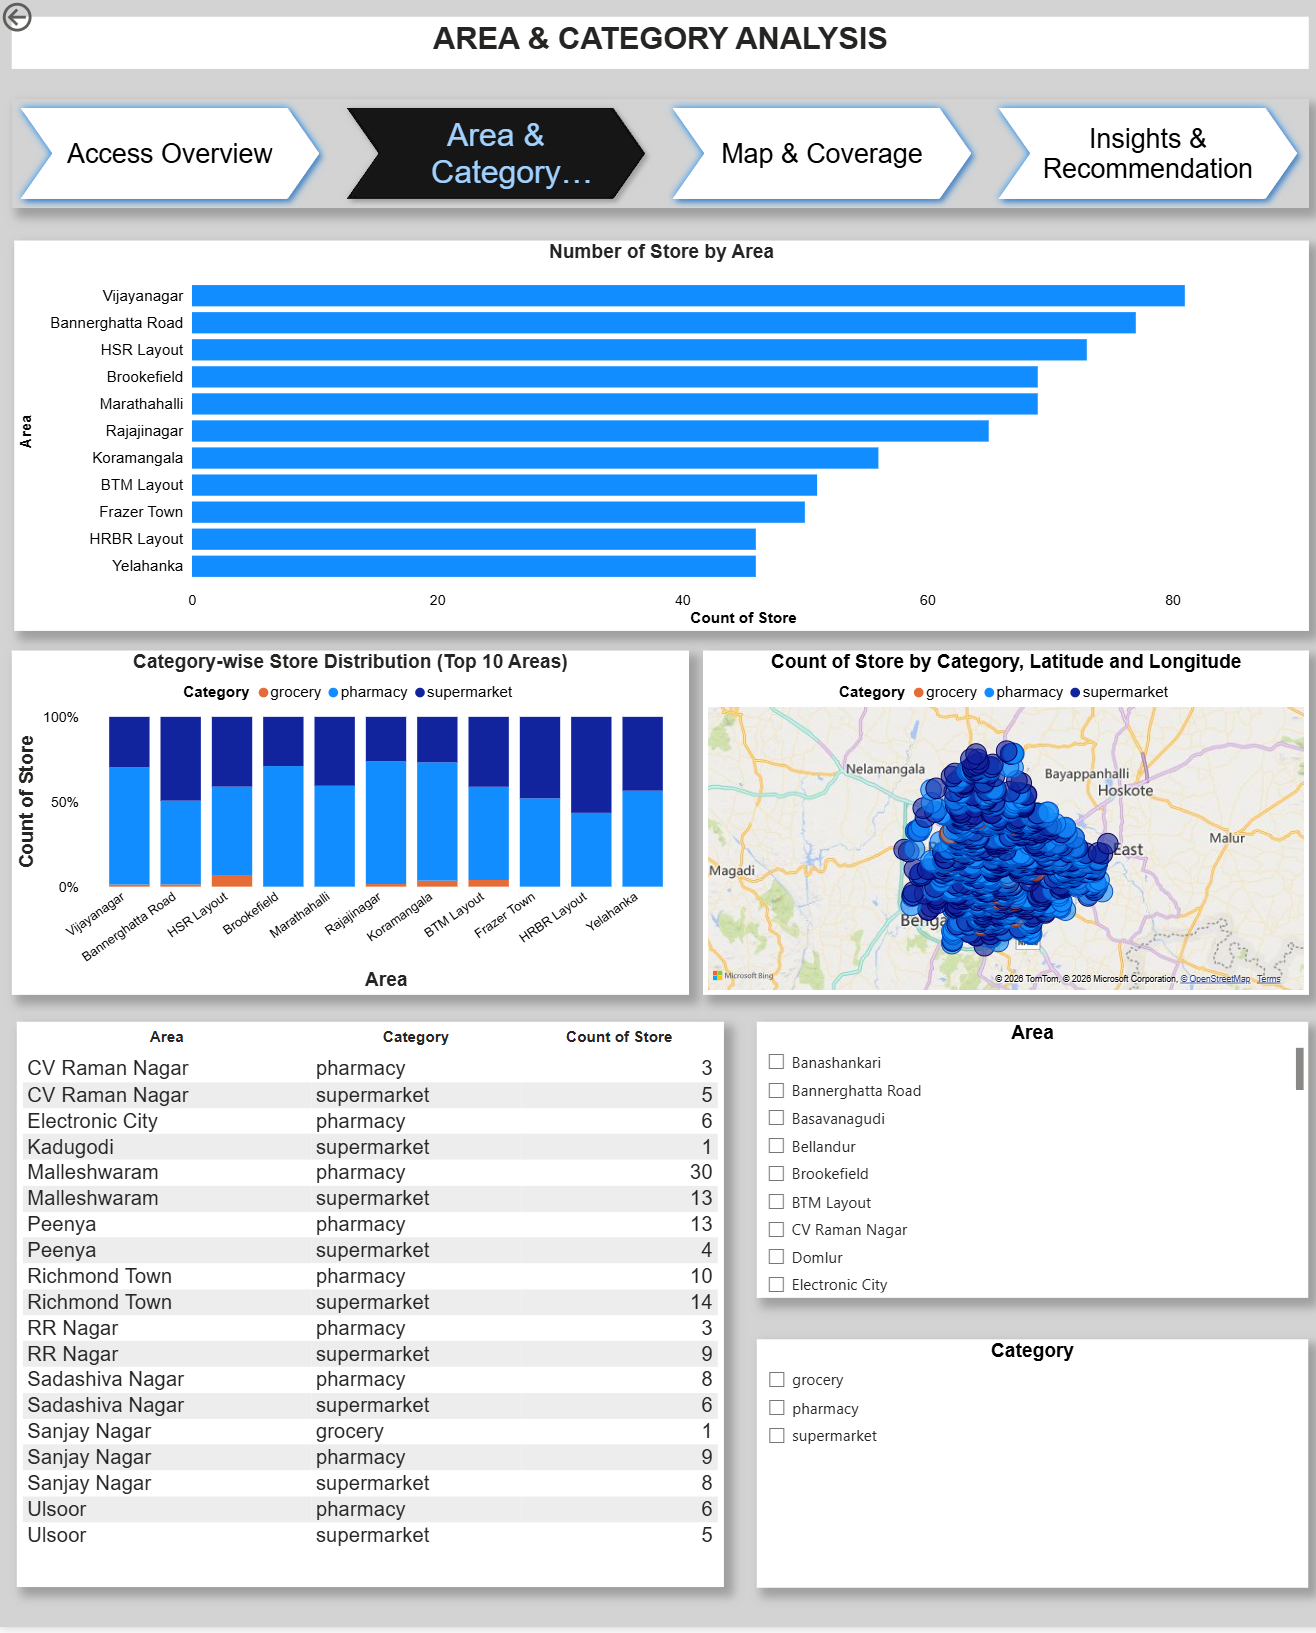

The page's visual inventory and layout, read from the dashboard file:
{"tool":"powerbi","page":{"name":"Area & Category Analysis","canvas":[1400,1700],"ordinal":1},"visuals":[{"type":"textbox","box":[14.2,19.9,1353.1,54.1],"z":0},{"type":"clusteredBarChart","title":"Number of Store by Area","fields":{"Category":["Bengaluru_Data.Area"],"Y":["Bengaluru_Data.Count of Store"]},"box":[17.1,253.5,1350.2,407.3],"z":1000},{"type":"hundredPercentStackedColumnChart","title":"Category-wise Store Distribution (Top 10 Areas)","fields":{"Category":["Bengaluru_Data.Area"],"Series":["Bengaluru_Data.Category"],"Y":["Bengaluru_Data.Count of Store"]},"box":[14.2,680.8,706.4,358.9],"z":2000},{"type":"map","fields":{"Y":["Bengaluru_Data.Latitude"],"X":["Bengaluru_Data.Longitude"],"Series":["Bengaluru_Data.Category"],"Size":["Bengaluru_Data.Count of Store"]},"box":[734.9,680.8,632.4,358.9],"z":3000},{"type":"tableEx","fields":{"Values":["Bengaluru_Data.Area","Bengaluru_Data.Category","Bengaluru_Data.Count of Store"]},"box":[19.9,1068.2,737.8,589.6],"z":4000},{"type":"actionButton","box":[0,0,100,40],"z":5000},{"type":"slicer","title":"Area","fields":{"Values":["Bengaluru_Data.Area"]},"box":[791.9,1068.2,575.4,287.7],"z":6000},{"type":"slicer","title":"Category","fields":{"Values":["Bengaluru_Data.Category"]},"box":[791.9,1398.6,575.4,259.2],"z":7000},{"type":"pageNavigator","box":[14.2,105.4,1353.1,113.9],"z":7001}]}

Visuals, with their boxes on the page's 1400x1700 design canvas (x1, y1, x2, y2). These are canvas units, not pixel positions in the 1316x1633 screenshot, which may show the page scaled, cropped or inside an application window:
textbox: {"left": 14, "top": 20, "right": 1367, "bottom": 74}
"Number of Store by Area" clusteredBarChart: {"left": 17, "top": 254, "right": 1367, "bottom": 661}
"Category-wise Store Distribution (Top 10 Areas)" hundredPercentStackedColumnChart: {"left": 14, "top": 681, "right": 721, "bottom": 1040}
map - Bengaluru_Data.Latitude x Bengaluru_Data.Longitude: {"left": 735, "top": 681, "right": 1367, "bottom": 1040}
tableEx - Bengaluru_Data.Area x Bengaluru_Data.Category: {"left": 20, "top": 1068, "right": 758, "bottom": 1658}
actionButton: {"left": 0, "top": 0, "right": 100, "bottom": 40}
"Area" slicer: {"left": 792, "top": 1068, "right": 1367, "bottom": 1356}
"Category" slicer: {"left": 792, "top": 1399, "right": 1367, "bottom": 1658}
pageNavigator: {"left": 14, "top": 105, "right": 1367, "bottom": 219}
